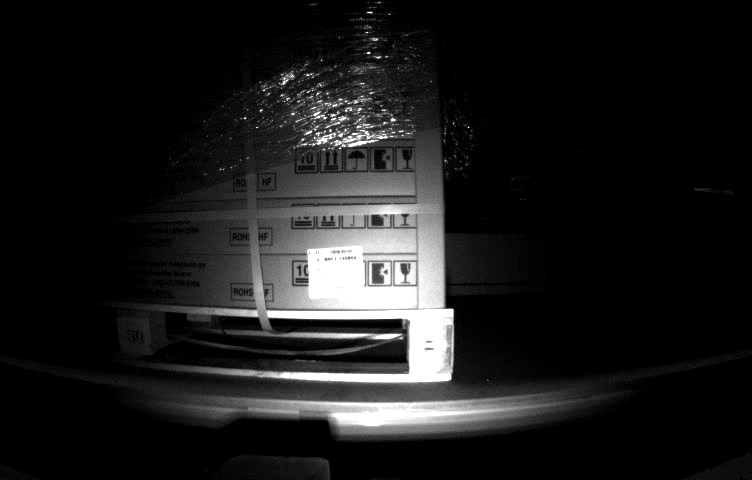True Barcode: (308, 245, 365, 299)
